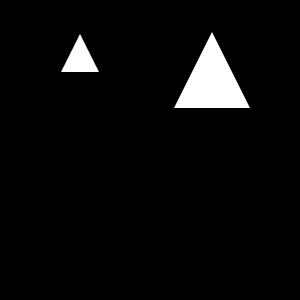triangle: (174, 32, 250, 108), (61, 34, 99, 72)
